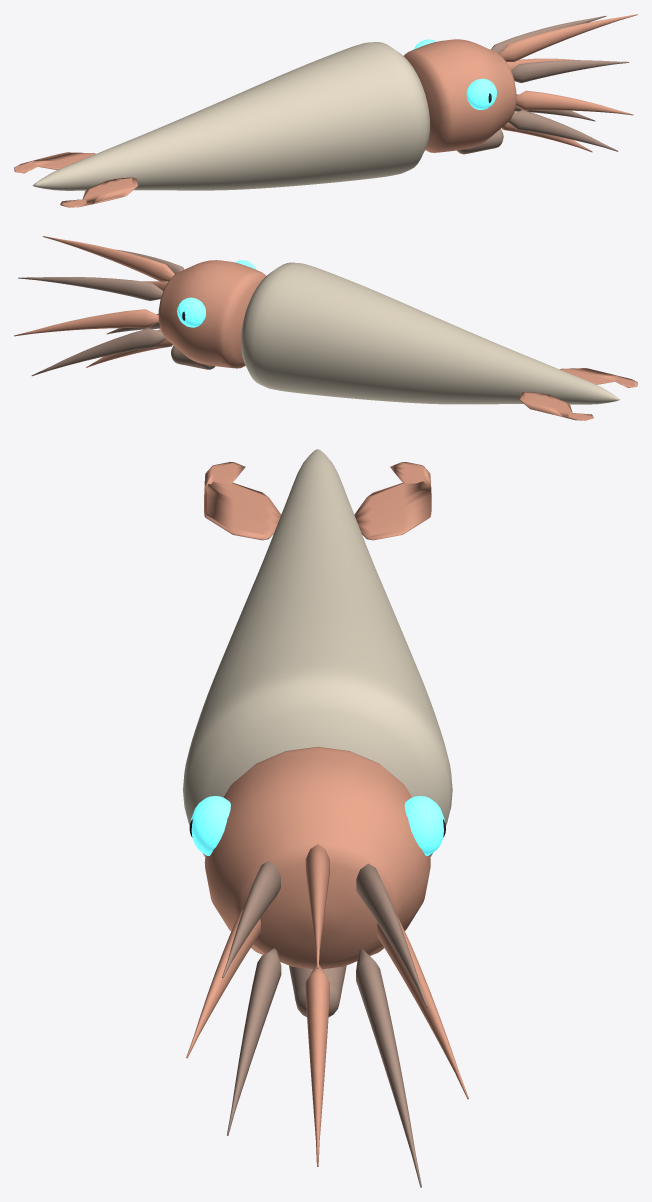
The model's file is orthoceras.glb.
3 renders of one model, top to bottom at view 1: azimuth 30°, elevation 25°; view 2: azimuth 150°, elevation 25°; view 3: azimuth 270°, elevation 25°, orthographic. The views are drawn at different scales.
Parts seen in each view (by area): view 1: Orthoceras_Shell, MantleHead, Tentacle_0, Tentacle_6, Tentacle_5, Tentacle_7, ApexFin_R, ApexFin_L, Eye_R, Tentacle_1, Tentacle_4, JetSiphon (+1 smaller); view 2: Orthoceras_Shell, MantleHead, Tentacle_2, Tentacle_3, Tentacle_1, Tentacle_0, ApexFin_L, ApexFin_R, Eye_L, Tentacle_4, JetSiphon; view 3: Orthoceras_Shell, MantleHead, ApexFin_L, ApexFin_R, Tentacle_3, Tentacle_5, Tentacle_4, Tentacle_1, Tentacle_2, Tentacle_7, Tentacle_6, Tentacle_0 (+3 smaller).
Part boxes in pixels (x1,y1,x2,y2): Orthoceras_Shell: (33, 42, 429, 190); MantleHead: (404, 39, 516, 152); Tentacle_0: (499, 14, 637, 62); Tentacle_6: (516, 90, 633, 115); Tentacle_5: (508, 110, 618, 151); Tentacle_7: (511, 60, 629, 82); ApexFin_R: (60, 177, 138, 207); ApexFin_L: (14, 152, 95, 173); Eye_R: (466, 78, 496, 109); Tentacle_1: (491, 16, 606, 53); Tentacle_4: (501, 112, 592, 152); JetSiphon: (457, 129, 503, 154); Orthoceras_Shell: (241, 262, 619, 404); MantleHead: (158, 260, 265, 368); Tentacle_2: (14, 309, 158, 336); Tentacle_3: (31, 328, 165, 376); Tentacle_1: (18, 277, 163, 300); Tentacle_0: (42, 236, 174, 281); ApexFin_L: (519, 392, 593, 420); ApexFin_R: (560, 368, 637, 387); Eye_L: (177, 297, 205, 327); Tentacle_4: (86, 329, 172, 367); JetSiphon: (171, 345, 214, 369); Orthoceras_Shell: (183, 449, 452, 856); MantleHead: (204, 746, 430, 969); ApexFin_L: (354, 462, 431, 540); ApexFin_R: (204, 462, 280, 540); Tentacle_3: (356, 949, 421, 1187); Tentacle_5: (227, 948, 281, 1135); Tentacle_4: (305, 964, 329, 1166); Tentacle_1: (356, 863, 427, 1007); Tentacle_2: (377, 915, 468, 1099); Tentacle_7: (222, 861, 280, 977); Tentacle_6: (186, 909, 260, 1058); Tentacle_0: (305, 844, 329, 968).
Size of the model in its own units: 3.12 by 0.7686 by 0.6699.
